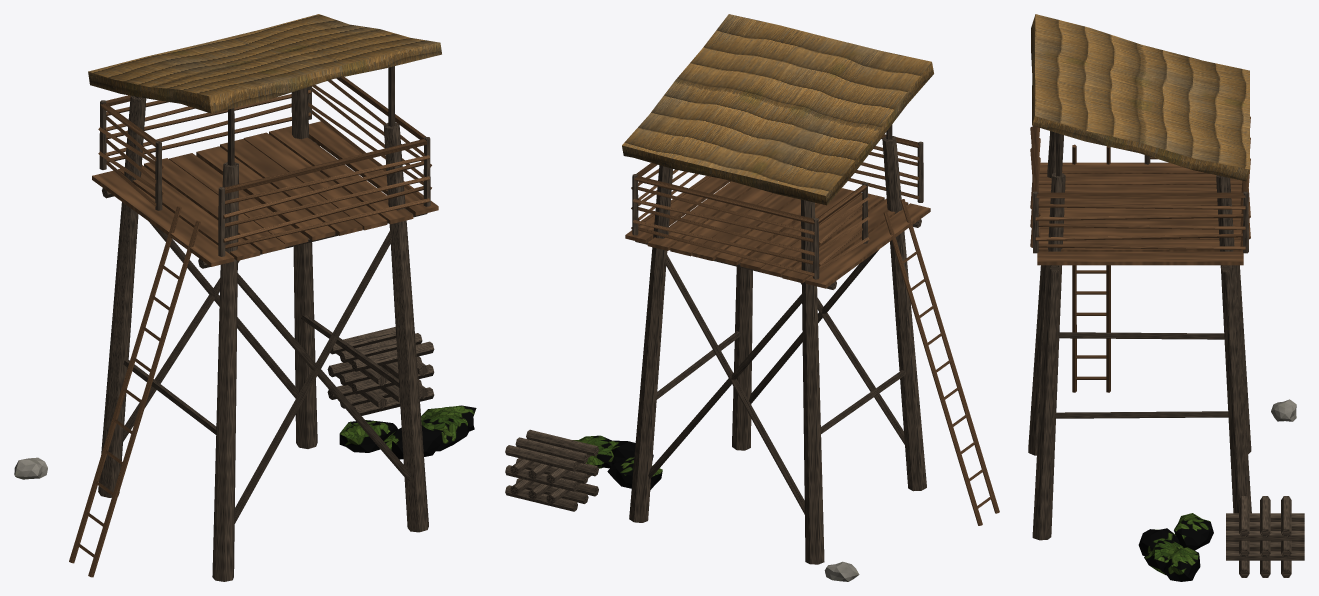
File: torre_avvistamento.glb
3 views of the same model, side by side, from view 1: azimuth 30°, elevation 25°; view 2: azimuth 150°, elevation 25°; view 3: azimuth 270°, elevation 25° (orthographic). The views are drawn at different scales.
Parts seen in each view (by area): view 1: torre_avvistamento; view 2: torre_avvistamento; view 3: torre_avvistamento.
Part boxes in pixels (<box>): torre_avvistamento: <box>14,14,476,581</box>; torre_avvistamento: <box>505,14,999,581</box>; torre_avvistamento: <box>1028,14,1304,581</box>.
Bounding box in the file's own units: 6.98 × 7.25 × 4.21.
5 materials, 5 textured.
